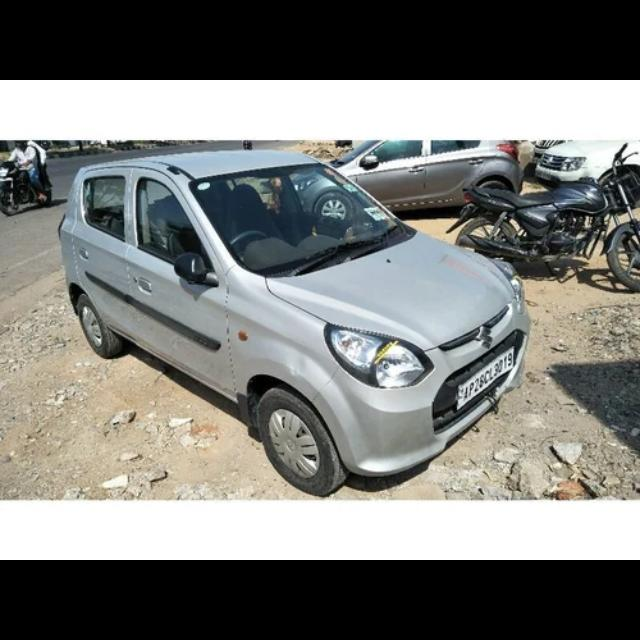vehicles: (60, 151, 522, 494), (322, 138, 526, 216), (532, 139, 640, 197)
